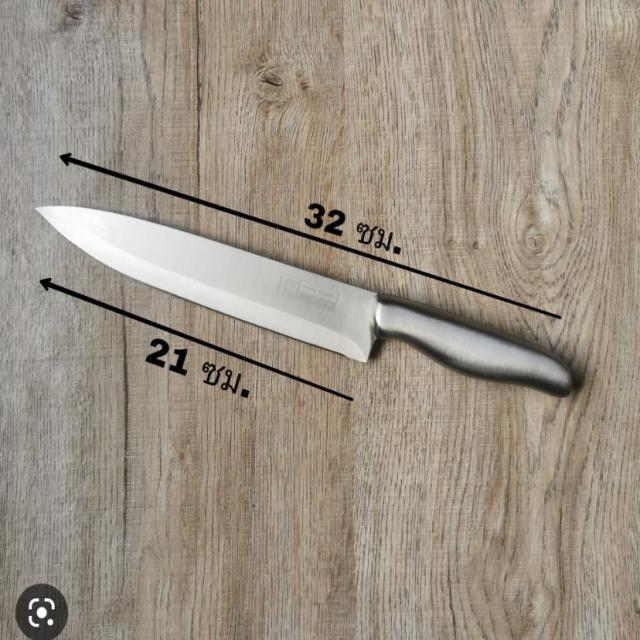Knife: (27, 202, 590, 420)
